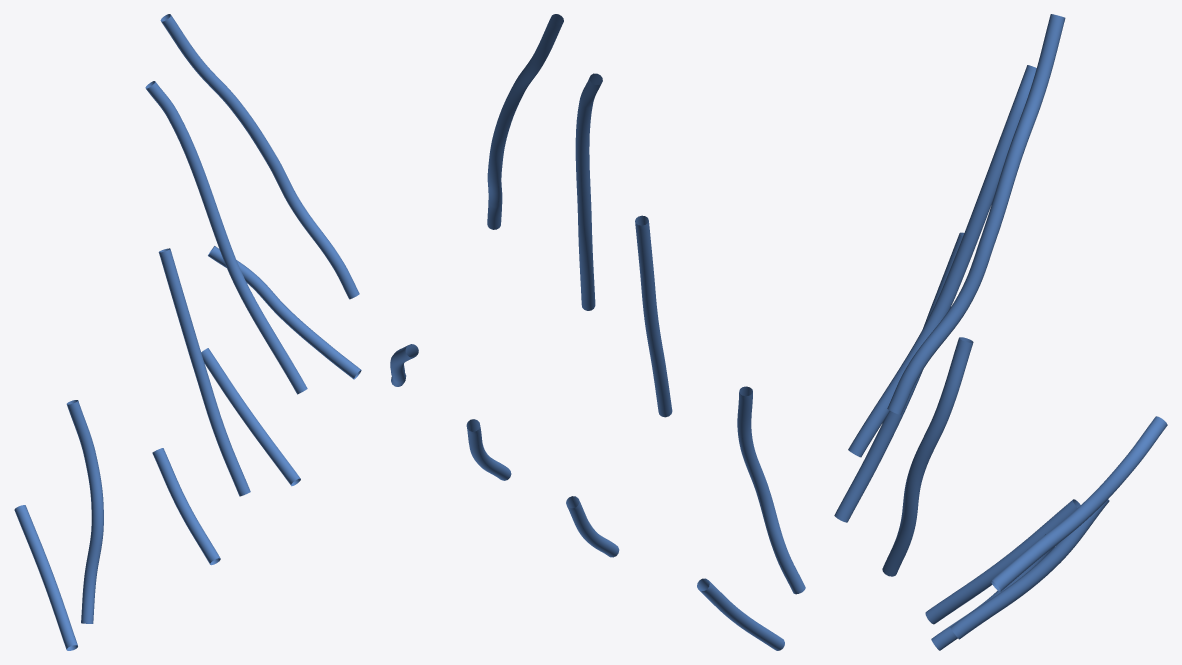
3 renders of one model, left to right at view 1: azimuth 30°, elevation 25°; view 2: azimuth 150°, elevation 25°; view 3: azimuth 270°, elevation 25°, orthographic. The views are drawn at different scales.
Visible parts, largest first — view 1: 左侧跖骨头间静脉; view 2: 左侧跖骨头间静脉; view 3: 左侧跖骨头间静脉.
Part boxes in pixels (x1,y1,x2,y2): 左侧跖骨头间静脉: (14,14,361,650); 左侧跖骨头间静脉: (390,14,805,650); 左侧跖骨头间静脉: (834,14,1167,650).
Size of the model in its own units: 0.0623 by 0.104 by 0.045.
